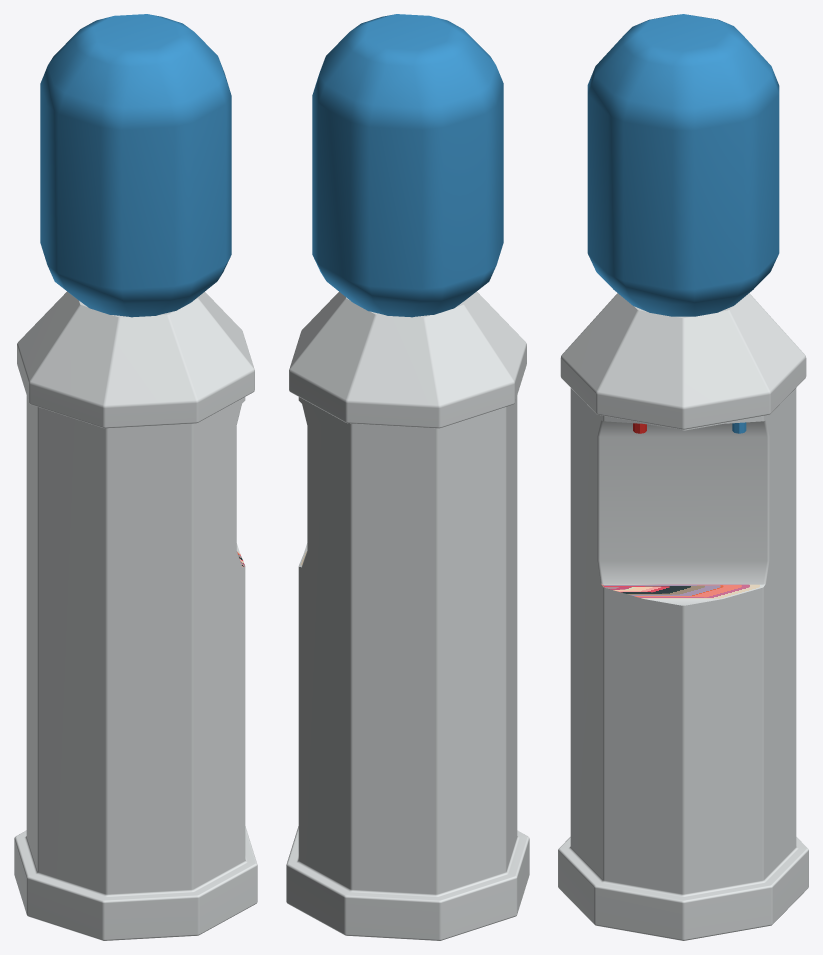
File: Water_Machine.fbx
3 views of the same model, side by side, from view 1: azimuth 30°, elevation 25°; view 2: azimuth 150°, elevation 25°; view 3: azimuth 270°, elevation 25° (orthographic).
Parts seen in each view (by area): view 1: Cylinder.045; view 2: Cylinder.045; view 3: Cylinder.045.
Boxes of the visible parts, x1=… form: Cylinder.045: x1=14, y1=14, x2=257, y2=940; Cylinder.045: x1=286, y1=14, x2=529, y2=940; Cylinder.045: x1=558, y1=14, x2=808, y2=940.
Size of the model in its own units: 123 by 464 by 123.
Materials: 1 (1 with a texture image).
